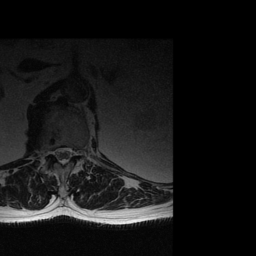CCS_normal: (60, 141, 66, 170)
LFS_normal: (73, 143, 80, 162)
LLS_normal: (66, 141, 73, 166)
RFS_stenosis: (49, 144, 55, 163)
RLS_normal: (54, 143, 60, 165)
